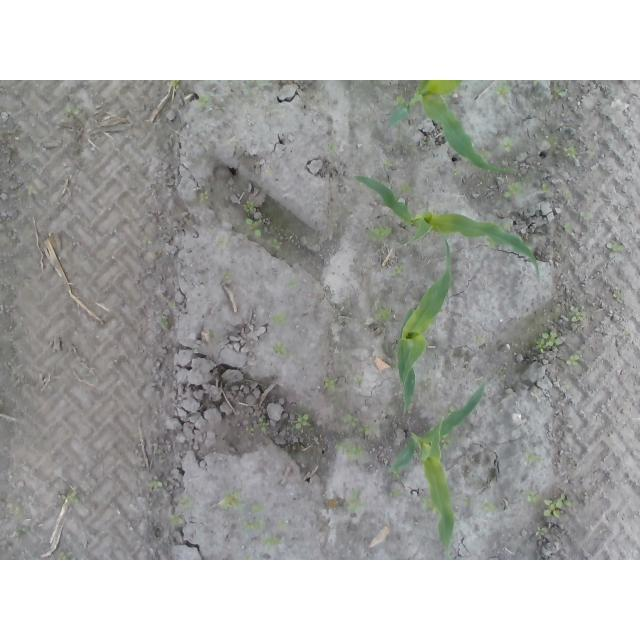Maize: (353, 176, 541, 289), (392, 380, 488, 559), (387, 80, 522, 176), (398, 225, 455, 413)
Weeds: (340, 411, 371, 437), (544, 494, 572, 519), (490, 222, 515, 249), (534, 331, 563, 354), (494, 81, 515, 107), (219, 491, 245, 512), (346, 491, 367, 517), (246, 417, 270, 436), (58, 485, 79, 506), (335, 443, 364, 458), (246, 219, 265, 240), (420, 495, 439, 514), (259, 537, 288, 549), (374, 308, 394, 325), (503, 183, 524, 198), (241, 517, 263, 531), (371, 227, 393, 241), (65, 100, 84, 116), (271, 312, 290, 327), (606, 242, 626, 255), (294, 415, 311, 430), (148, 477, 163, 494), (167, 515, 185, 529), (216, 232, 229, 250), (501, 138, 516, 153), (272, 343, 288, 357), (177, 494, 193, 508), (551, 85, 567, 99), (196, 93, 210, 108), (527, 451, 542, 465), (8, 529, 28, 539), (242, 201, 256, 215), (322, 377, 336, 391), (523, 490, 537, 503), (566, 356, 581, 368), (612, 291, 624, 306), (563, 146, 578, 158), (569, 310, 583, 322), (273, 237, 284, 252), (250, 506, 267, 515), (392, 265, 404, 277), (563, 222, 574, 235), (167, 80, 181, 90), (577, 212, 591, 221), (27, 185, 38, 196), (141, 236, 152, 247), (475, 333, 486, 344), (326, 141, 338, 151), (354, 377, 367, 386), (199, 190, 210, 200), (287, 280, 298, 289), (483, 501, 494, 510), (222, 271, 231, 282), (400, 183, 412, 191), (536, 526, 546, 535)
